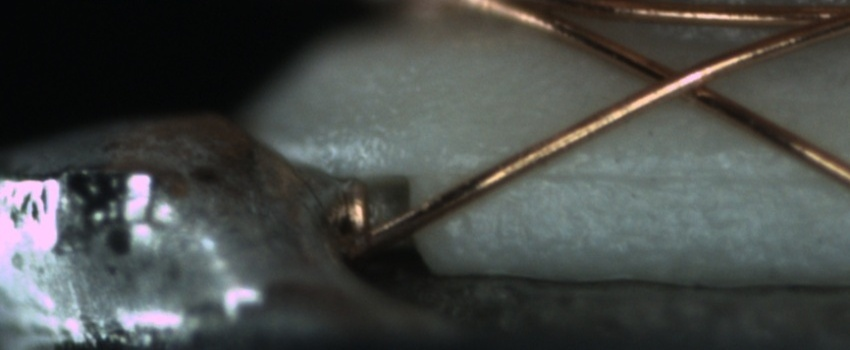CL: (625, 52, 733, 111)
DL: (534, 143, 830, 204)
